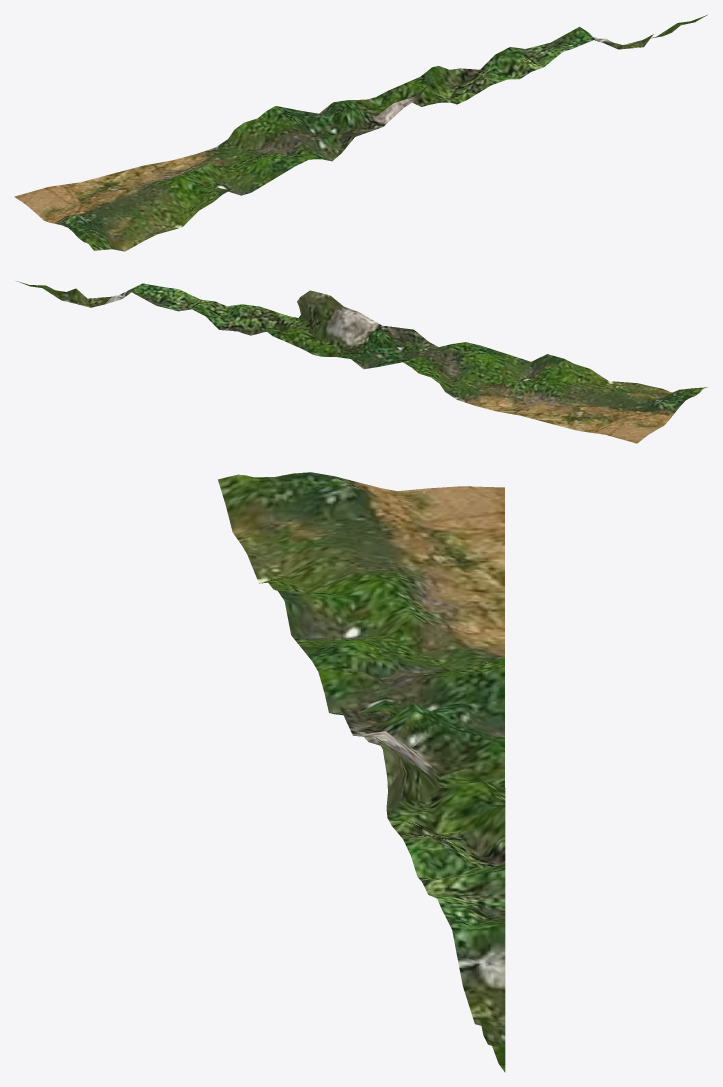
Rendered from Tile_+001_+000_L22_00011300.glb.
3 views of the same model, one above another, from view 1: azimuth 30°, elevation 25°; view 2: azimuth 150°, elevation 25°; view 3: azimuth 270°, elevation 25° (orthographic). The views are drawn at different scales.
Visible parts, largest first — view 1: rtc; view 2: rtc; view 3: rtc.
Part boxes in pixels (box(x1,y1,x2,y2)): rtc: box(14, 15, 707, 251); rtc: box(16, 281, 707, 443); rtc: box(218, 472, 505, 1072).
Bounding box in the file's own units: 12.53 × 0.9751 × 2.5.
1 material, 1 textured.
